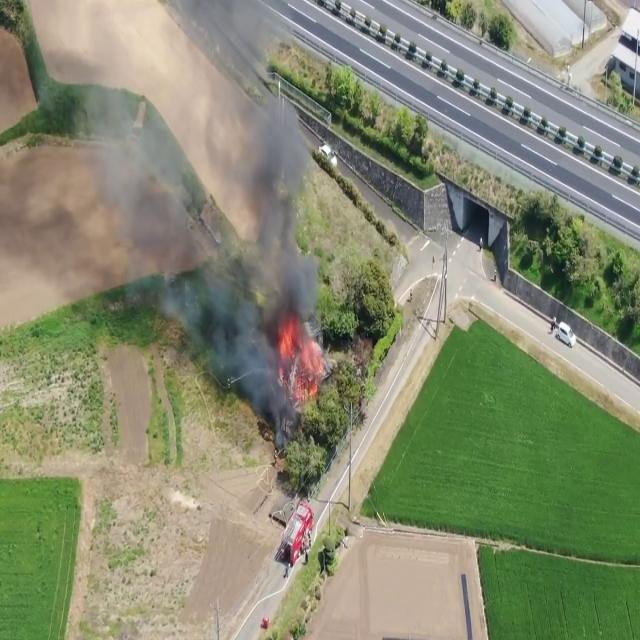Fire: (275, 306, 328, 406)
Smoke: (36, 1, 320, 397)
